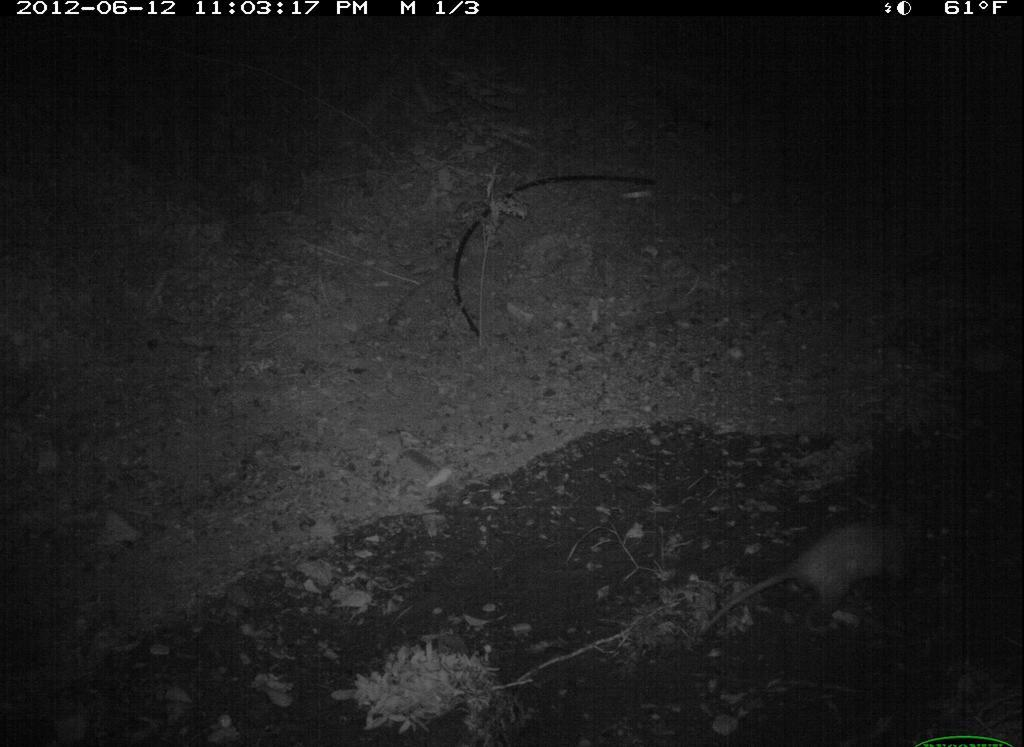opossum: (678, 519, 946, 639)
